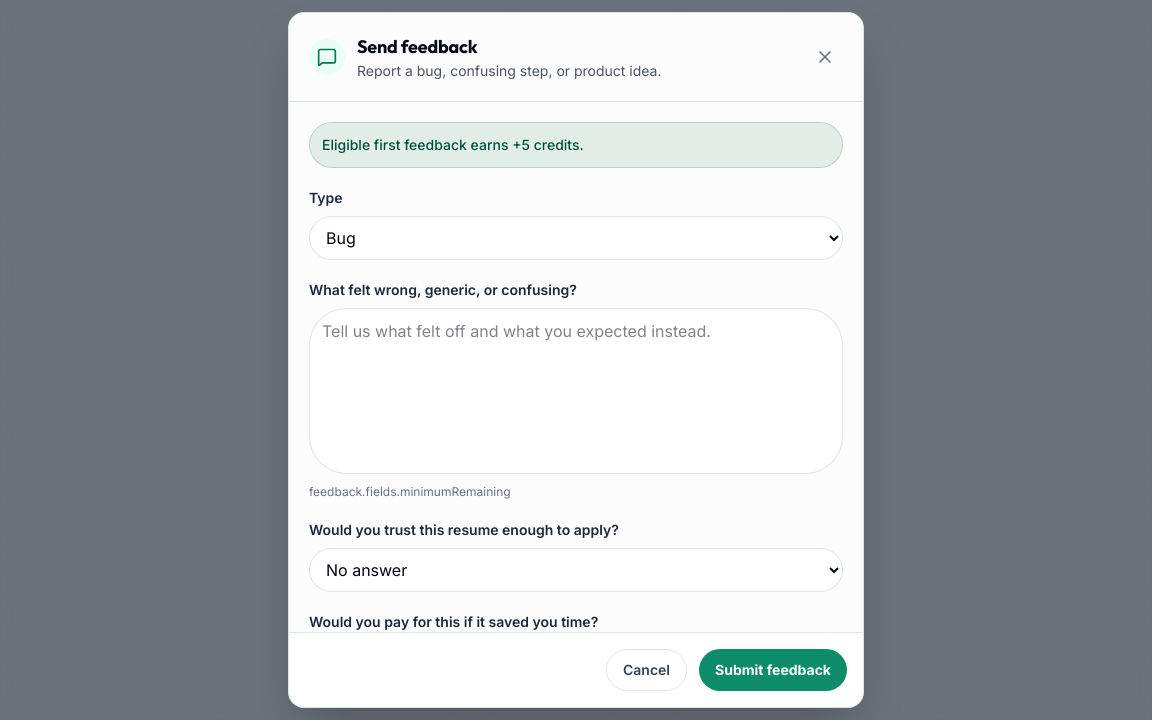
FeedbackModal › validates minimum meaningful feedback before submitting
Type "Too short" into the text box labelled "What felt wrong" at (576, 391), box x1=309 y1=308 x2=843 y2=474
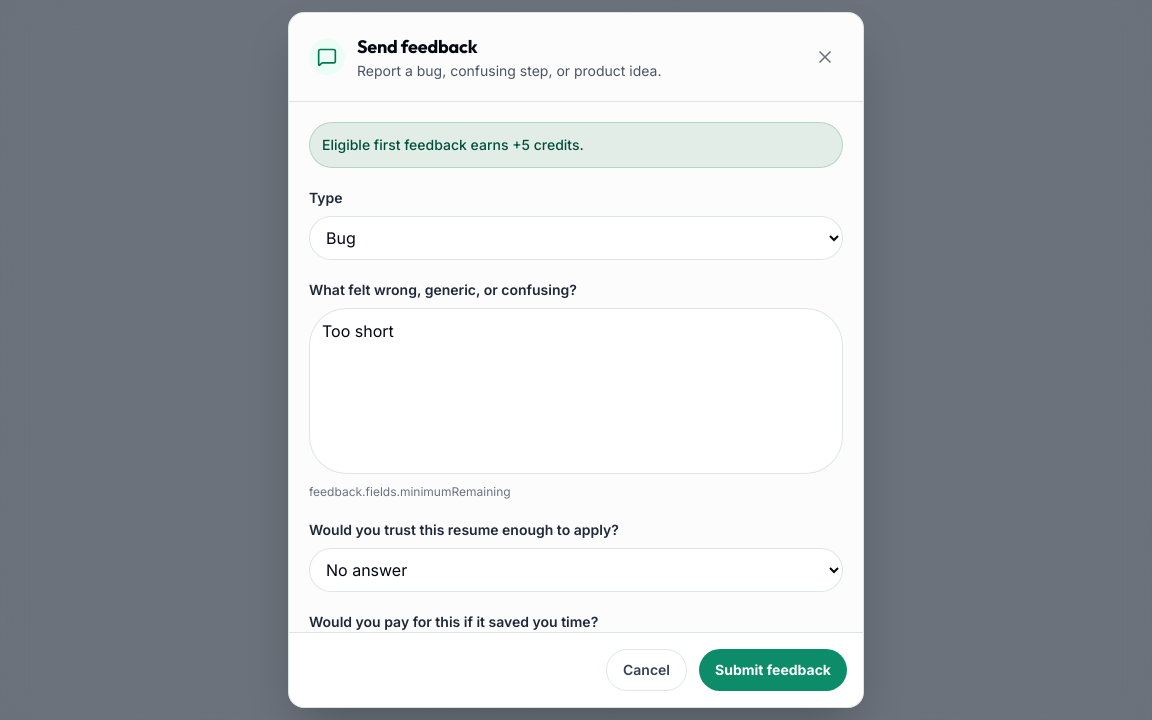
Click the button "Submit feedback" at (773, 670), box x1=699 y1=649 x2=847 y2=691
(page scrolled)
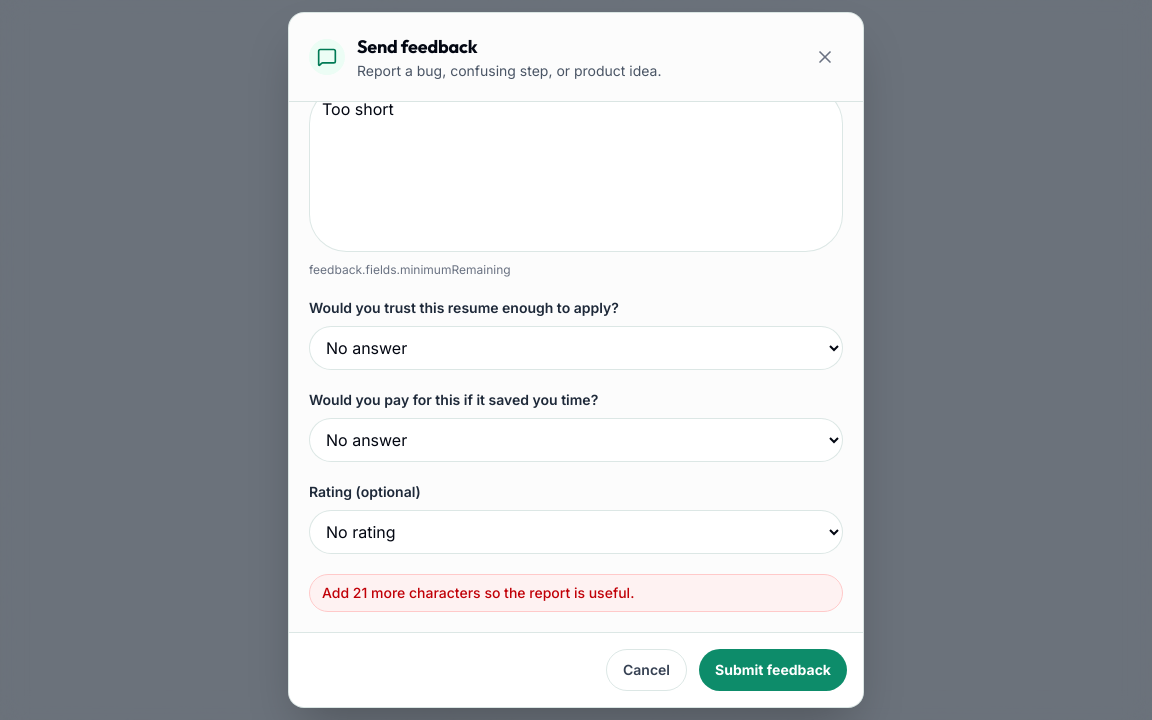
Result: the message shows "Add 21 more characters" at x1=322 y1=584 x2=634 y2=601
